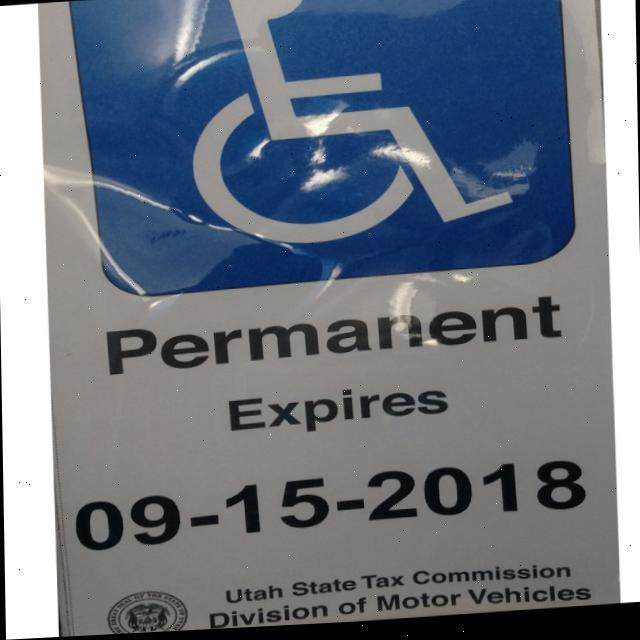symbol_of_access: (77, 0, 553, 292)
